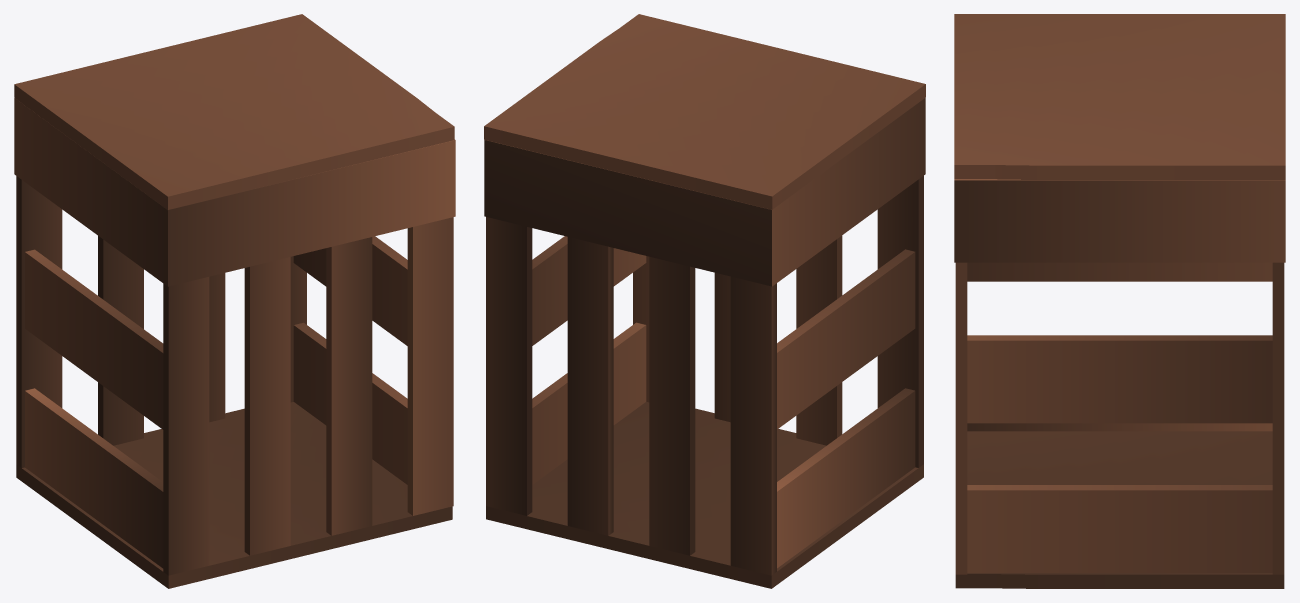
The model's file is Tall Cherry Crate Closed Lid.fbx.
The picture shows the model from 3 angles, left to right: view 1: azimuth 30°, elevation 25°; view 2: azimuth 150°, elevation 25°; view 3: azimuth 270°, elevation 25°; orthographic projection. The views are drawn at different scales.
Parts seen in each view (by area): view 1: Tall Cherry Crate Closed; view 2: Tall Cherry Crate Closed; view 3: Tall Cherry Crate Closed.
Boxes of the visible parts, x1,y1,x2,y2 form: Tall Cherry Crate Closed: [14, 14, 455, 588]; Tall Cherry Crate Closed: [484, 14, 925, 588]; Tall Cherry Crate Closed: [954, 14, 1285, 588].
Bounding box in the file's own units: 294 × 208 × 226.
Materials: 1 (1 with a texture image).
